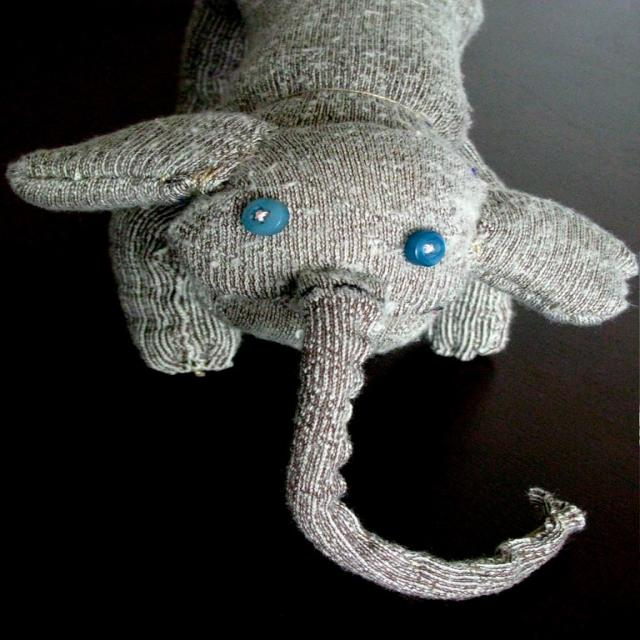elephant: (0, 68, 613, 596)
